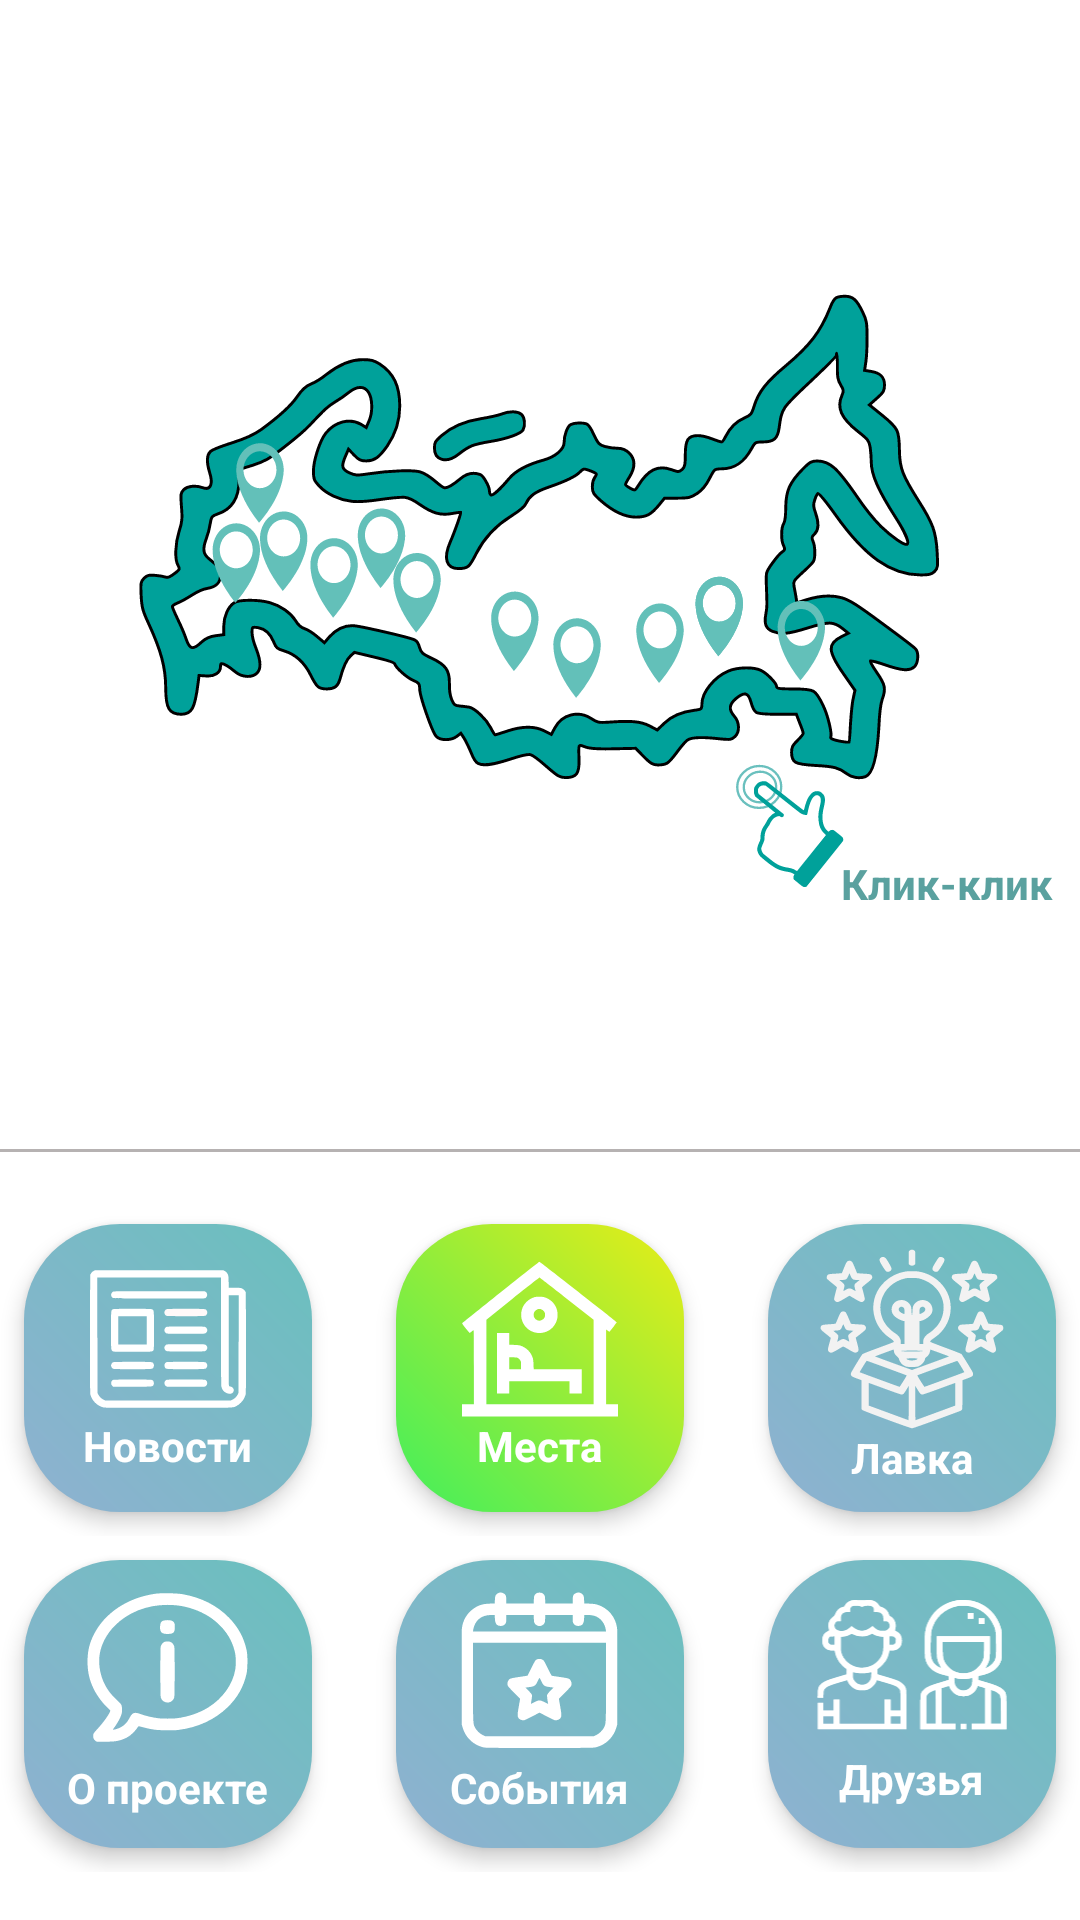

Icon click points for this 1080*1920 phone screenshot, format (x,y):
hand: (780,816)
